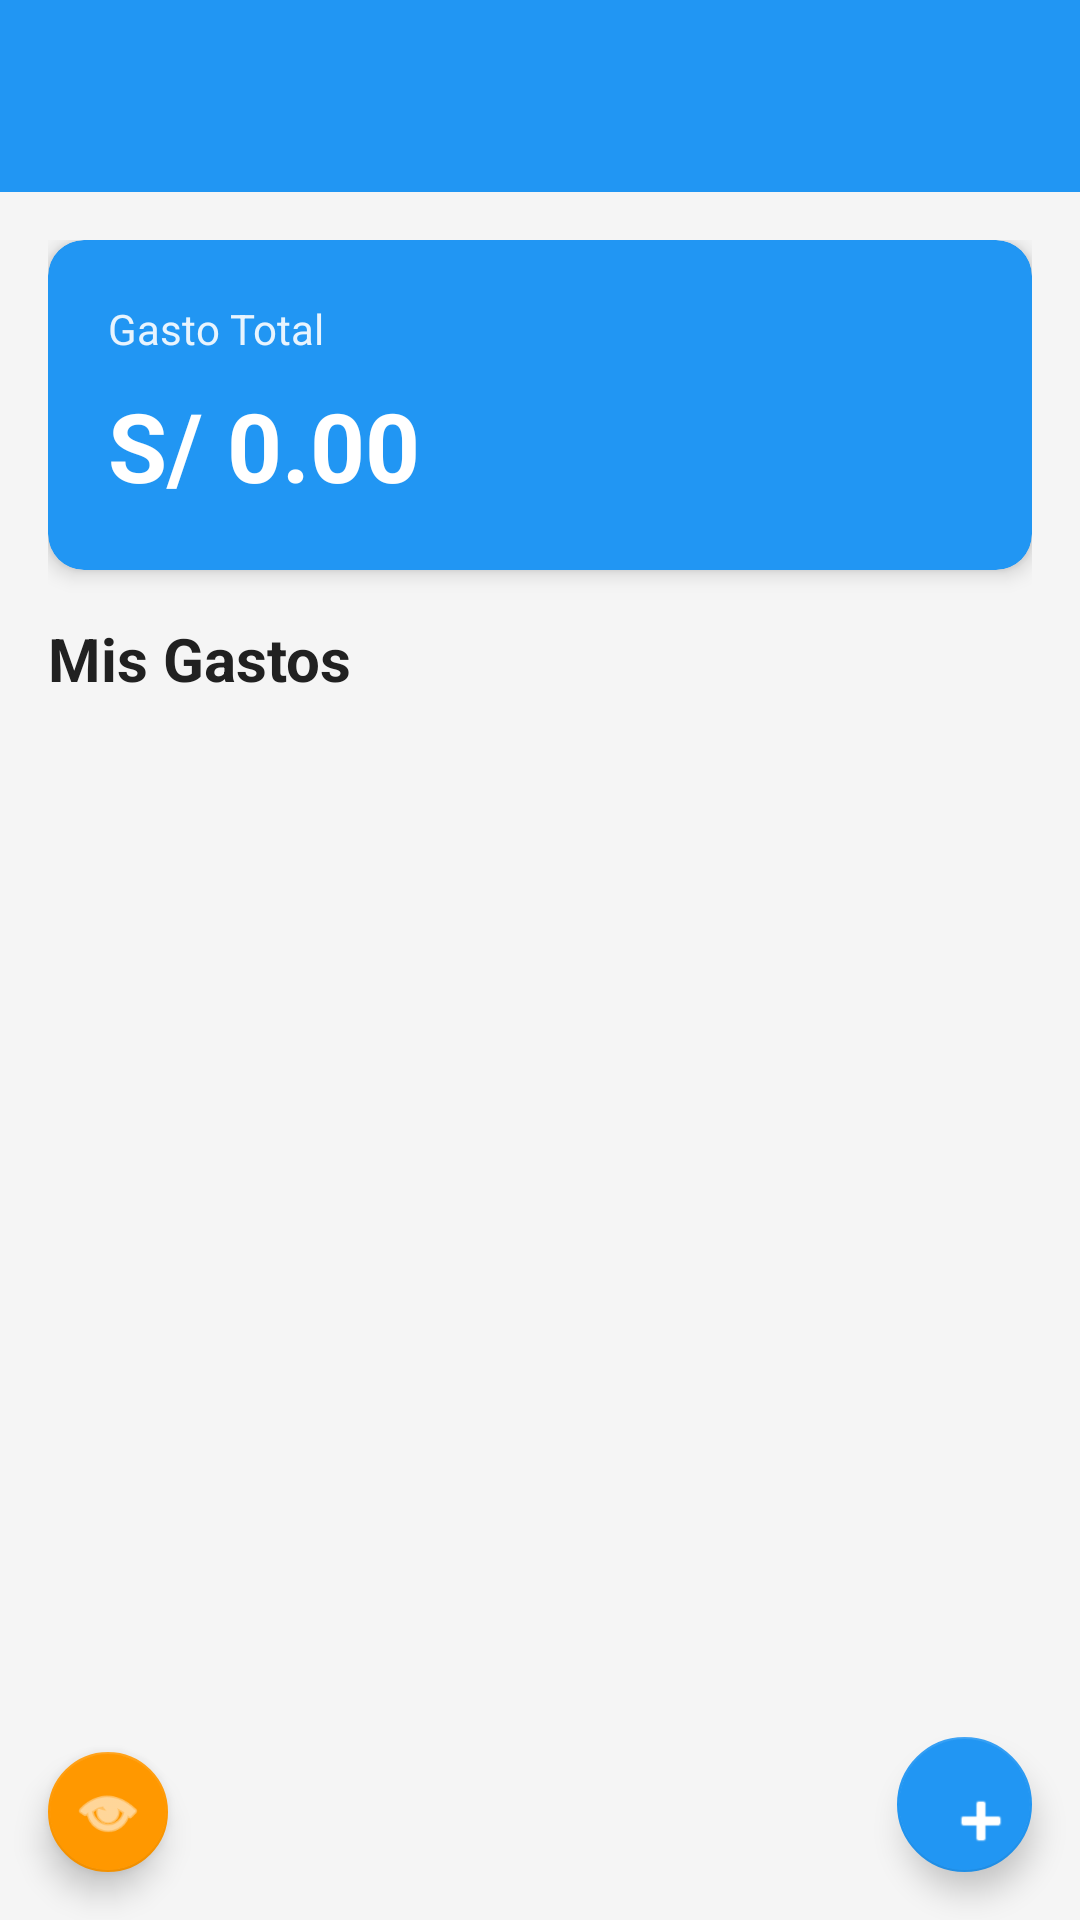

Screen size 1080 x 1920. Icon name, then its box in pixels as (x1=x1, y1=y1, x2=x2, y2=y2):
Agregar gasto: (x1=897, y1=1737, x2=1032, y2=1872)
Ver resumen: (x1=47, y1=1752, x2=168, y2=1884)
